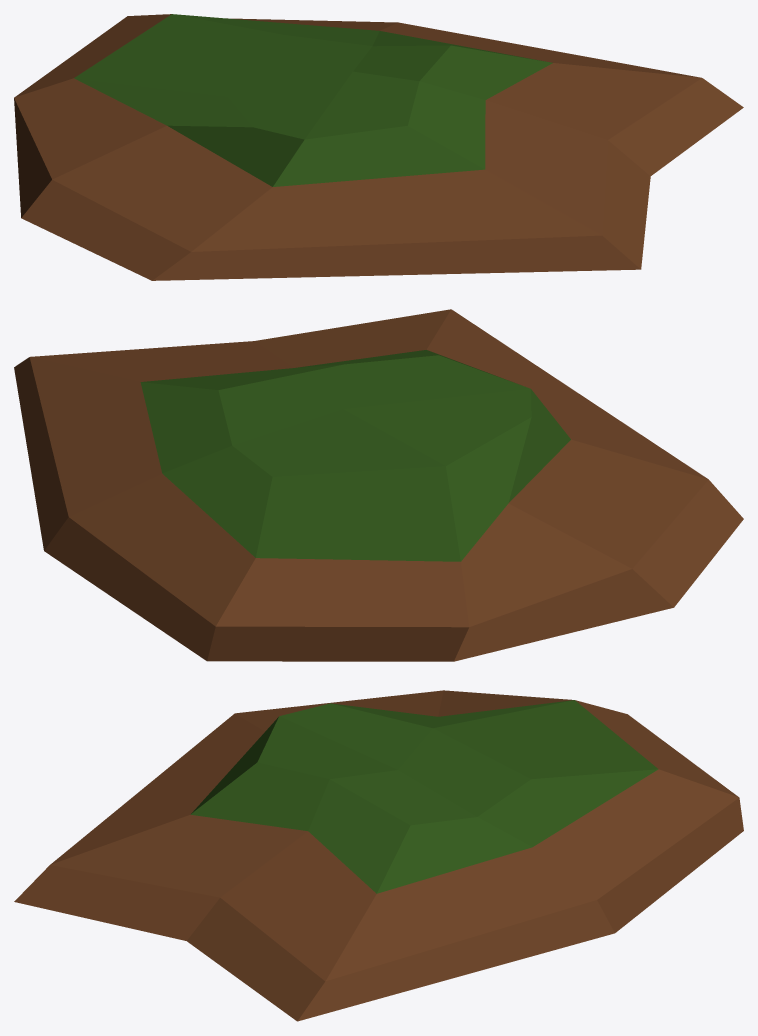
The model's file is MossyRocks001.fbx.
3 views of the same model, one above another, from view 1: azimuth 30°, elevation 25°; view 2: azimuth 150°, elevation 25°; view 3: azimuth 270°, elevation 25° (orthographic). The views are drawn at different scales.
Visible parts, largest first — view 1: Cube.010; view 2: Cube.010; view 3: Cube.010.
Boxes of the visible parts, x1=… form: Cube.010: x1=14, y1=14, x2=743, y2=280; Cube.010: x1=14, y1=309, x2=743, y2=661; Cube.010: x1=14, y1=690, x2=743, y2=1021.
Bounding box in the file's own units: 510 × 70.54 × 489.
